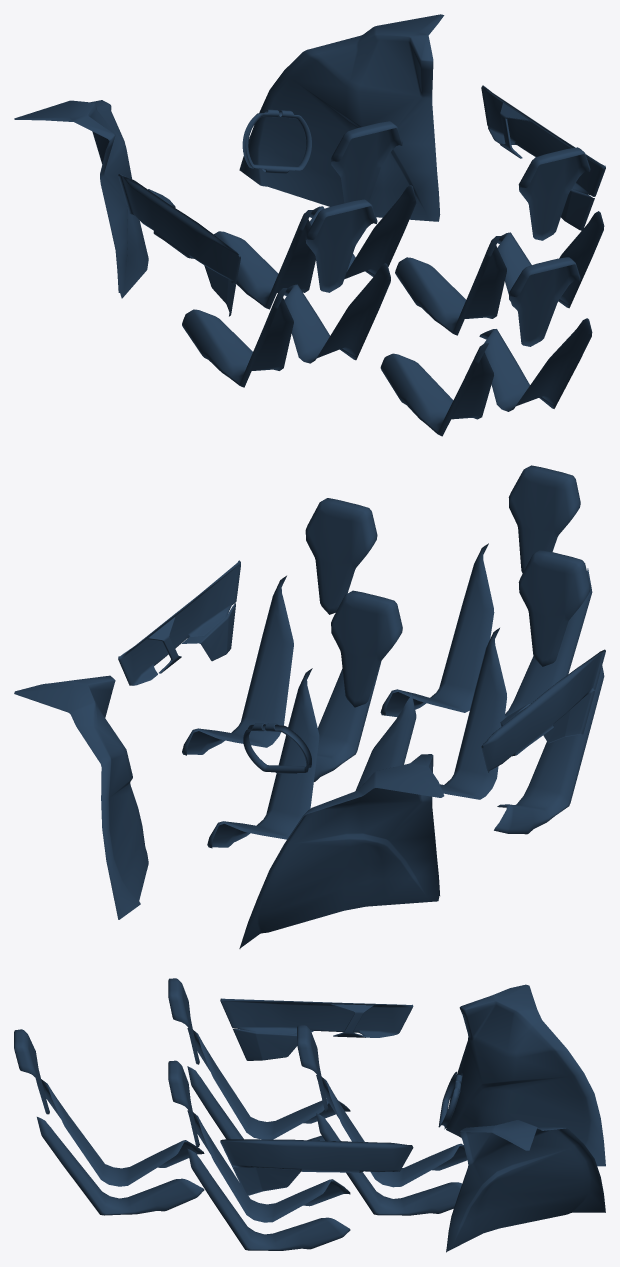
File: Interior_Graphite.glb
3 renders of one model, top to bottom at view 1: azimuth 30°, elevation 25°; view 2: azimuth 150°, elevation 25°; view 3: azimuth 270°, elevation 25°, orthographic. The views are drawn at different scales.
Visible parts, largest first — view 1: InteriorSeatsColor1, InteriorDashSides, InteriorDoorL03, InteriorDoorR03, InteriorSteeringWheel01, InteriorDoorR04, InteriorDoorL04; view 2: InteriorSeatsColor1, InteriorDashSides, InteriorDoorL03, InteriorDoorR03, InteriorSteeringWheel01, InteriorDoorR04, InteriorDoorL04; view 3: InteriorDashSides, InteriorSeatsColor1, InteriorDoorR03, InteriorDoorL03, InteriorDoorL04, InteriorDoorR04, InteriorSteeringWheel01, InteriorDoorL05.
Boxes of the visible parts, <box> form: InteriorSeatsColor1: <box>182,121,604,436</box>; InteriorDashSides: <box>14,14,444,298</box>; InteriorDoorL03: <box>118,174,240,284</box>; InteriorDoorR03: <box>481,85,605,196</box>; InteriorSteeringWheel01: <box>242,109,311,173</box>; InteriorDoorR04: <box>561,189,594,230</box>; InteriorDoorL04: <box>204,265,235,316</box>; InteriorSeatsColor1: <box>182,465,604,848</box>; InteriorDashSides: <box>14,675,444,948</box>; InteriorDoorL03: <box>481,649,605,772</box>; InteriorDoorR03: <box>118,560,240,685</box>; InteriorSteeringWheel01: <box>243,723,311,773</box>; InteriorDoorR04: <box>182,603,235,661</box>; InteriorDoorL04: <box>543,691,594,743</box>; InteriorDashSides: <box>446,984,605,1252</box>; InteriorSeatsColor1: <box>14,978,467,1250</box>; InteriorDoorR03: <box>220,1139,413,1172</box>; InteriorDoorL03: <box>220,998,413,1037</box>; InteriorDoorL04: <box>233,1029,313,1060</box>; InteriorDoorR04: <box>232,1167,300,1196</box>; InteriorSteeringWheel01: <box>438,1071,462,1129</box>; InteriorDoorL05: <box>330,1004,373,1037</box>.
Bounding box in the file's own units: 2.05 × 0.9616 × 3.09.
